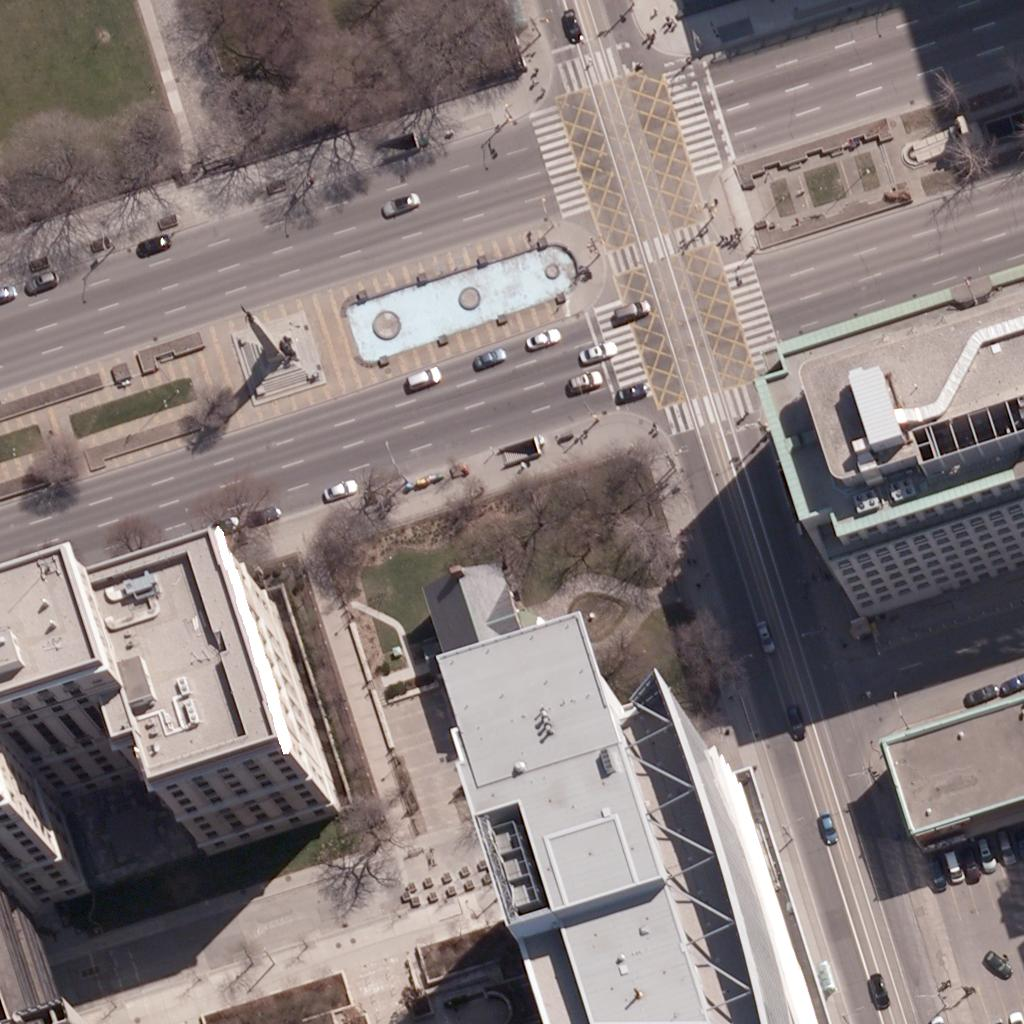car: (553, 5, 587, 39), (380, 188, 414, 222), (137, 225, 171, 259), (24, 262, 58, 296), (614, 294, 648, 328), (528, 320, 562, 354), (576, 337, 610, 371), (470, 340, 504, 374), (402, 359, 436, 393), (563, 362, 597, 396), (614, 375, 648, 409), (323, 473, 357, 507), (242, 499, 276, 533), (207, 507, 241, 541), (746, 615, 780, 649), (967, 676, 1001, 710), (776, 701, 810, 735), (809, 807, 843, 841), (988, 825, 1022, 859), (968, 829, 1002, 863), (931, 844, 965, 878), (953, 846, 987, 880), (916, 856, 950, 890), (982, 949, 1016, 983), (861, 968, 895, 1002), (995, 667, 1024, 701), (1005, 822, 1024, 856)
